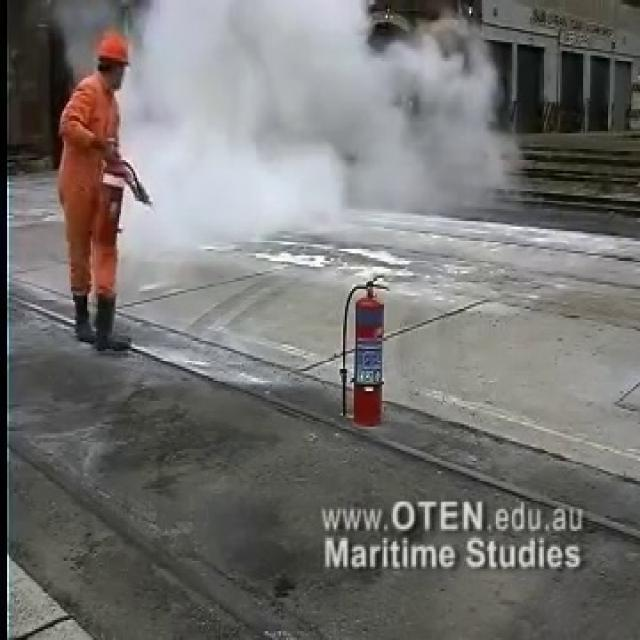Smoke: (86, 0, 520, 244)
